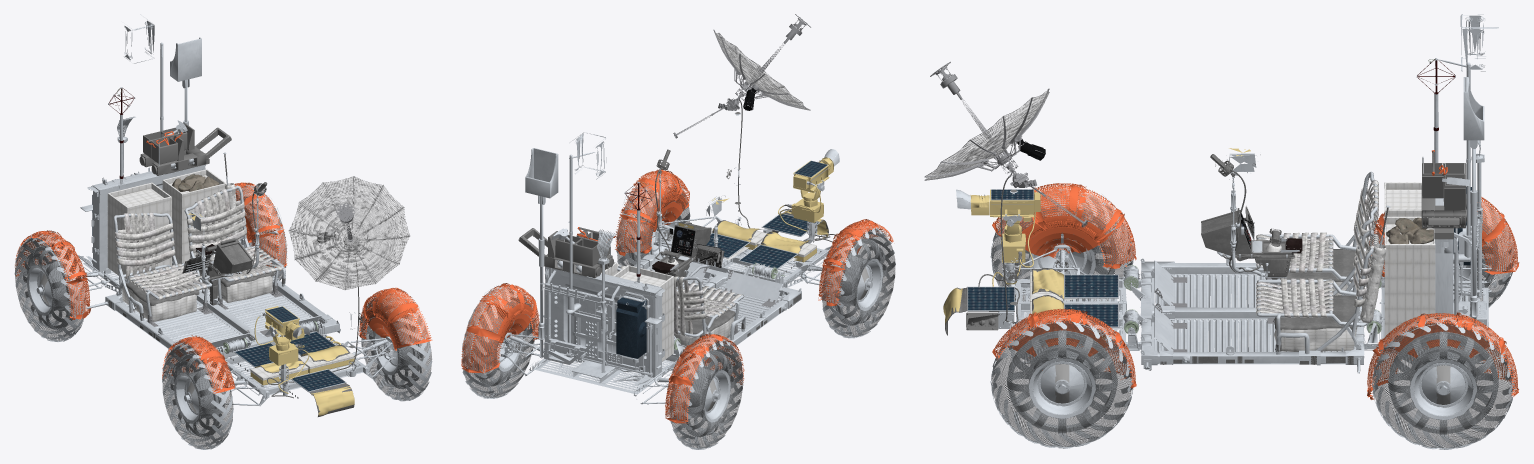
File: lrv-oldschool.glb
3 renders of one model, left to right at view 1: azimuth 30°, elevation 25°; view 2: azimuth 150°, elevation 25°; view 3: azimuth 270°, elevation 25°, orthographic. The views are drawn at different scales.
Parts seen in each view (by area): view 1: Main Antenna - Dish, Wheel - Rear Right, Wheel - Front Right, Wheel - Front Left, Floor - Central, Chassis - Mid Section, Rock Sample Collection Box 02, ToolKit Small, Dust Guard Front Left, Rear Science Kit Frame, Dust Guard Rear Right, Rock Sample Collection Box 01 (+30 smaller); view 2: Wheel - Front Right, Wheel - Rear Right, Rear Science Kit Frame, Wheel - Rear Left, Dust Guard Rear Left, Dust Guard Front Left, Wheel - Front Left, ToolKit Small, Dust Guard Rear Right, Floor - Central, Science Kit Inner, Tool 1 (+31 smaller); view 3: Wheel - Rear Left, Wheel - Front Left, Floor - Central, Chassis - Mid Section, Dust Guard Front Right, Rock Sample Collection Box 01, Wheel - Front Right, ToolKit Small, Dust Guard Rear Left, TV Camera, Main Antenna - Dish Structure, Main Antenna - Dish (+37 smaller).
Boxes of the visible parts, x1,y1,x2,y2 form: Main Antenna - Dish: (289,176,409,289); Wheel - Rear Right: (14,234,86,341); Wheel - Front Right: (162,342,233,449); Wheel - Front Left: (360,293,432,401); Floor - Central: (116,283,324,357); Chassis - Mid Section: (86,259,340,365); Rock Sample Collection Box 02: (107,182,171,278); ToolKit Small: (139,124,231,175); Dust Guard Front Left: (358,287,432,348); Rear Science Kit Frame: (87,164,205,271); Dust Guard Rear Right: (15,230,91,319); Rock Sample Collection Box 01: (162,169,226,263); Wheel - Front Right: (822,226,895,338); Wheel - Rear Right: (669,337,743,449); Rear Science Kit Frame: (545,266,665,377); Wheel - Rear Left: (461,287,535,398); Dust Guard Rear Left: (461,283,539,373); Dust Guard Front Left: (615,169,689,255); Wheel - Front Left: (616,176,690,266); ToolKit Small: (518,227,615,278); Dust Guard Rear Right: (665,333,744,423); Floor - Central: (646,253,782,354); Science Kit Inner: (566,296,662,376); Tool 1: (525,148,558,358); Wheel - Rear Left: (1372,316,1514,449); Wheel - Front Left: (990,315,1133,448); Floor - Central: (1143,260,1362,364); Chassis - Mid Section: (1130,258,1364,373); Dust Guard Front Right: (992,183,1136,268); Rock Sample Collection Box 01: (1384,216,1435,341); Wheel - Front Right: (990,189,1133,312); ToolKit Small: (1421,150,1466,239); Dust Guard Rear Left: (1367,312,1518,399); TV Camera: (956,189,1040,301); Main Antenna - Dish Structure: (924,66,1088,227); Main Antenna - Dish: (926,90,1048,179).
Bounding box in the file's own units: 0.6172 × 0.721 × 1.07.
45 materials, 38 textured.
